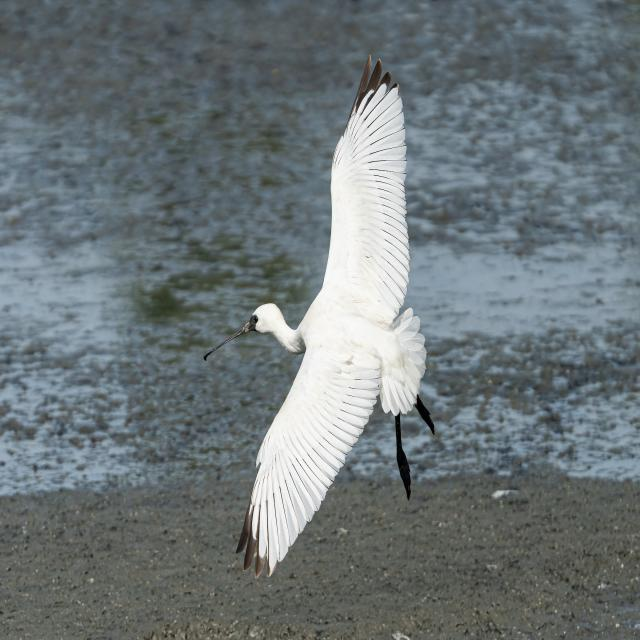Black-faced spoonbill: (205, 57, 433, 576)
